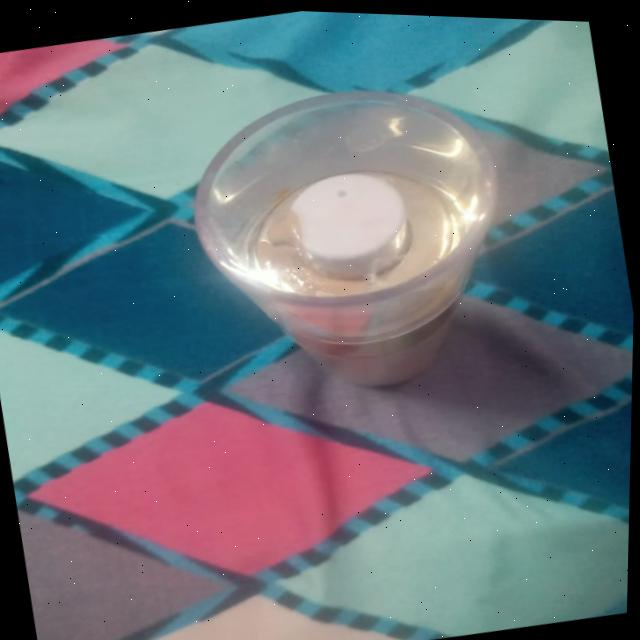setting spray: (166, 52, 561, 433)
